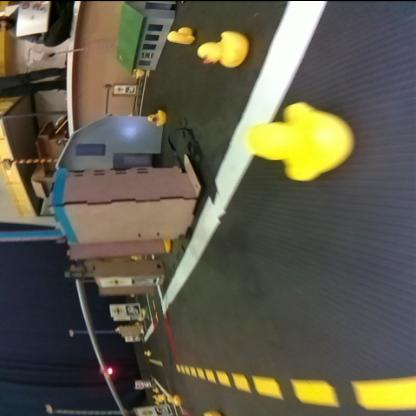Duckie: (247, 107, 352, 180), (197, 31, 247, 67), (167, 28, 194, 44), (146, 110, 164, 126), (166, 395, 178, 405), (157, 394, 165, 400), (150, 386, 158, 392), (143, 350, 150, 356)
Intersection sign: (104, 278, 127, 286), (111, 306, 123, 315), (114, 86, 122, 92)
QR code: (130, 277, 158, 285), (152, 405, 172, 415), (124, 304, 138, 316), (124, 87, 134, 93)
Traffic light: (104, 366, 114, 374)
